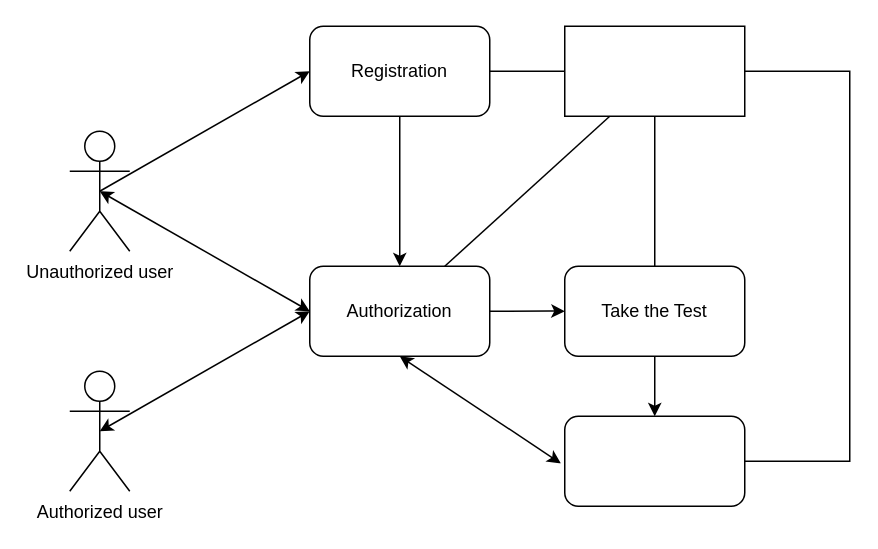
This 878x549 diagram has some shape labels left out. Each missing label, with the centre of its shape:
"Check Statistics" goes at (x=654, y=460).
"Server" goes at (x=654, y=70).
